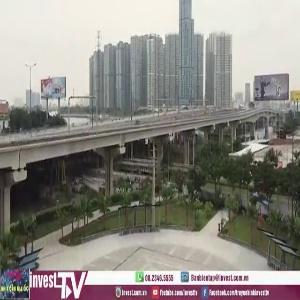drone: (231, 169, 295, 233)
